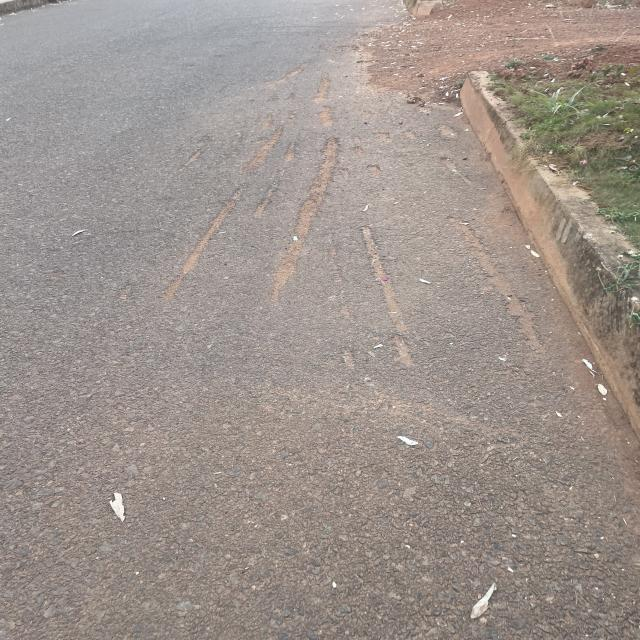D43: (204, 99, 432, 408)
